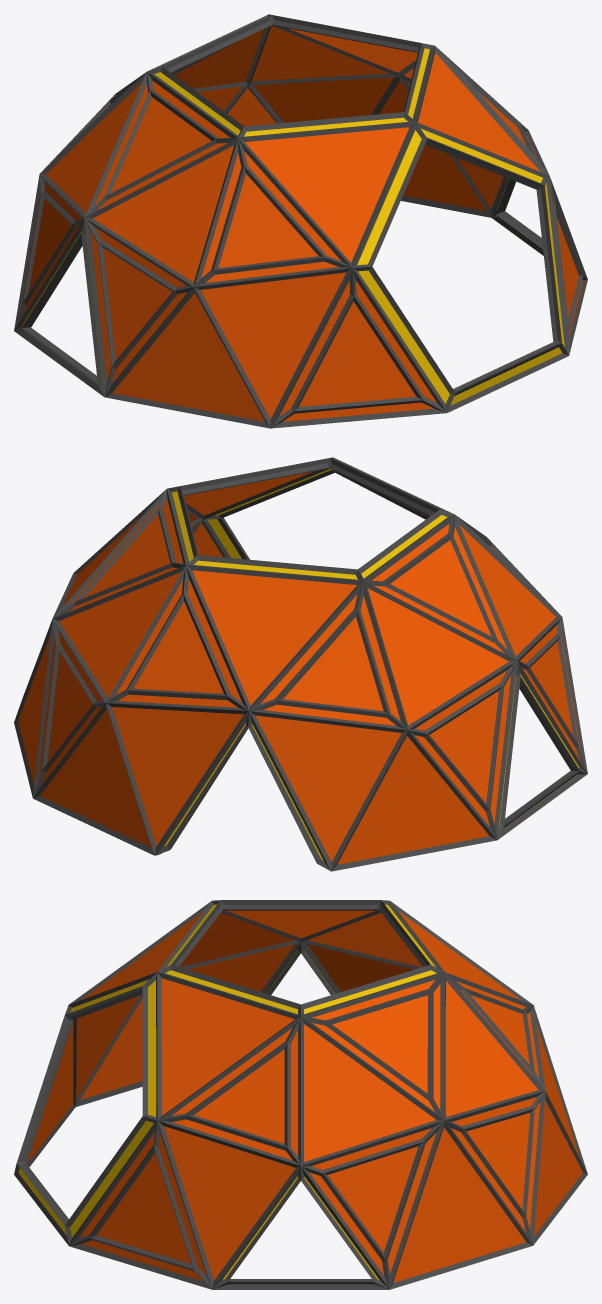
Rendered from ObservatoryDome.fbx.
The picture shows the model from 3 angles, top to bottom: view 1: azimuth 30°, elevation 25°; view 2: azimuth 150°, elevation 25°; view 3: azimuth 270°, elevation 25°; orthographic projection. The views are drawn at different scales.
Parts seen in each view (by area): view 1: Dome; view 2: Dome; view 3: Dome.
Part boxes in pixels (x1,y1,x2,y2): Dome: [14, 14, 587, 428]; Dome: [14, 457, 587, 871]; Dome: [14, 900, 587, 1289].
Bounding box in the file's own units: 14337 × 6657 × 15070.
